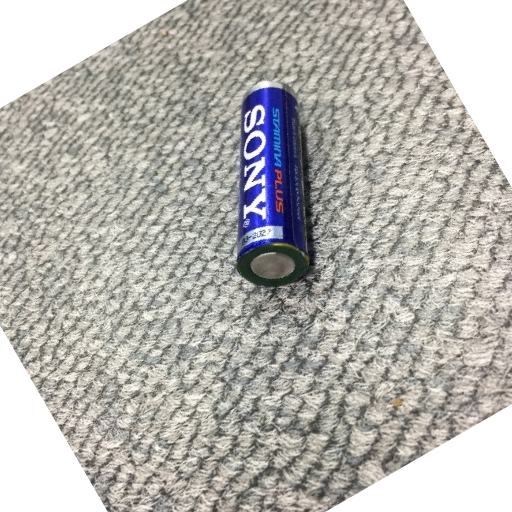Battery_0: (223, 64, 338, 307)
